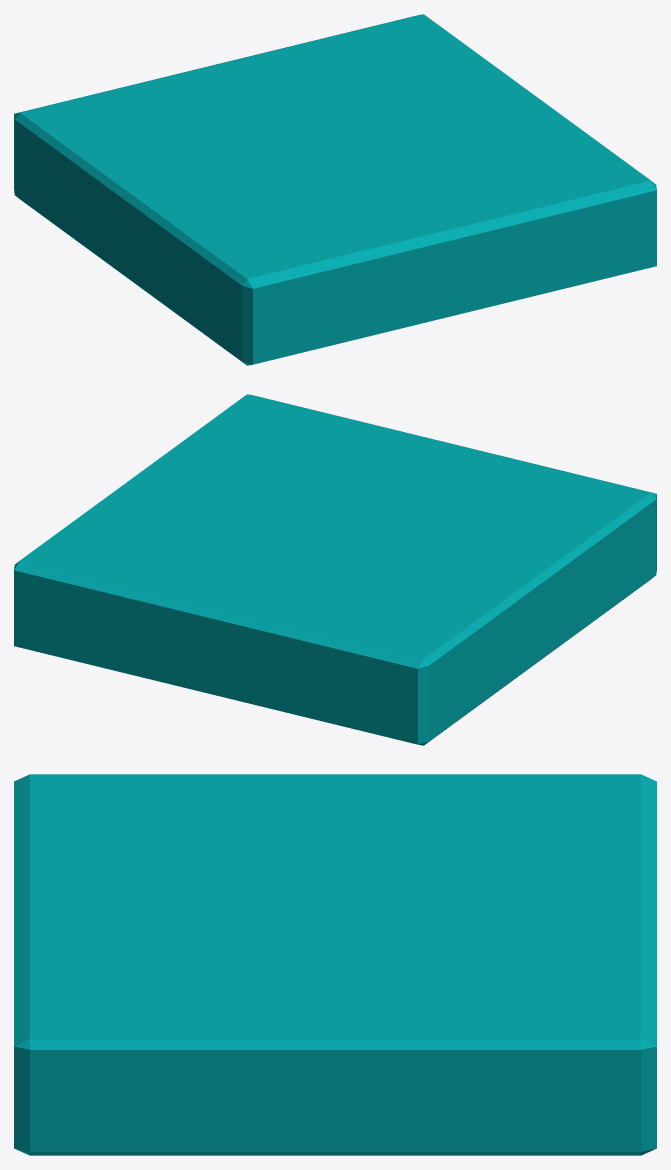
File: br-m-platform-aqua.fbx
3 views of the same model, one above another, from view 1: azimuth 30°, elevation 25°; view 2: azimuth 150°, elevation 25°; view 3: azimuth 270°, elevation 25° (orthographic). The views are drawn at different scales.
Parts seen in each view (by area): view 1: pCube164; view 2: pCube164; view 3: pCube164.
Boxes of the visible parts, <box> form: pCube164: <box>14,14,656,365</box>; pCube164: <box>14,394,656,745</box>; pCube164: <box>14,774,656,1155</box>.
Bounding box in the file's own units: 10 × 2 × 10.
